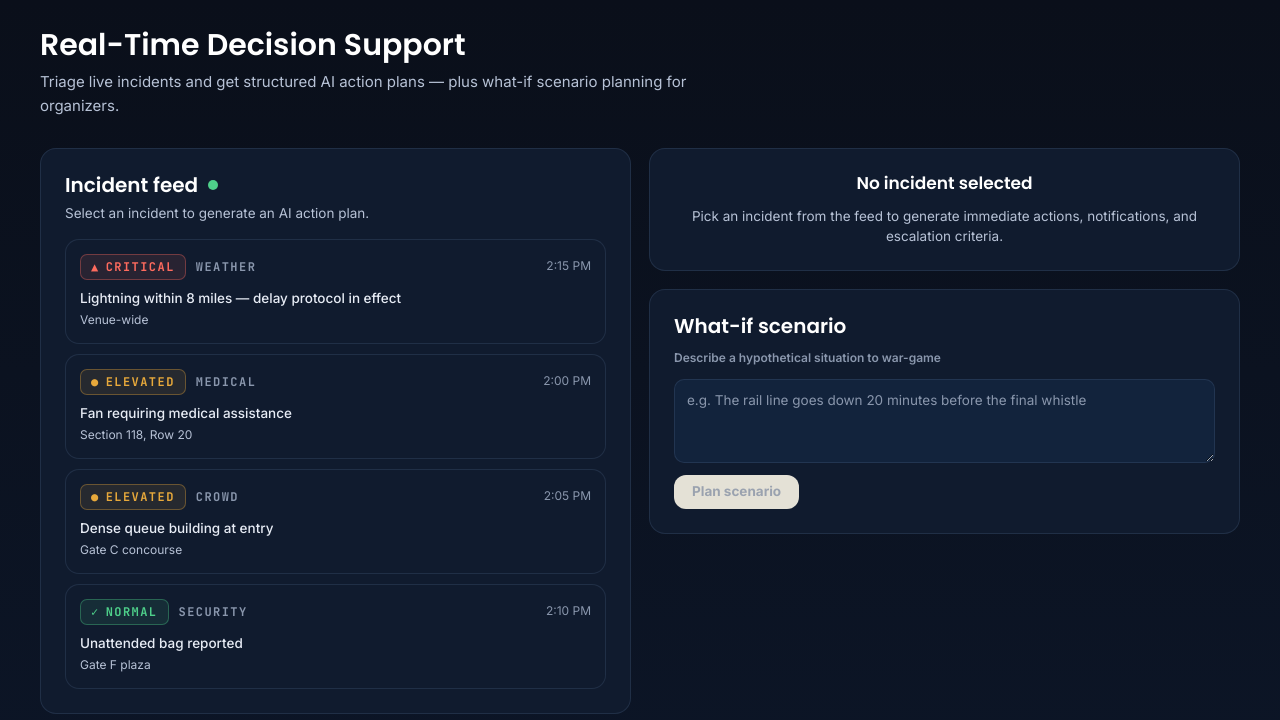
Test: RealTimeDecisionSupportScreen › marks mock plans with the Demo data badge
Click the button "Dense queue building at entry": (133, 497) x1=65 y1=469 x2=606 y2=574
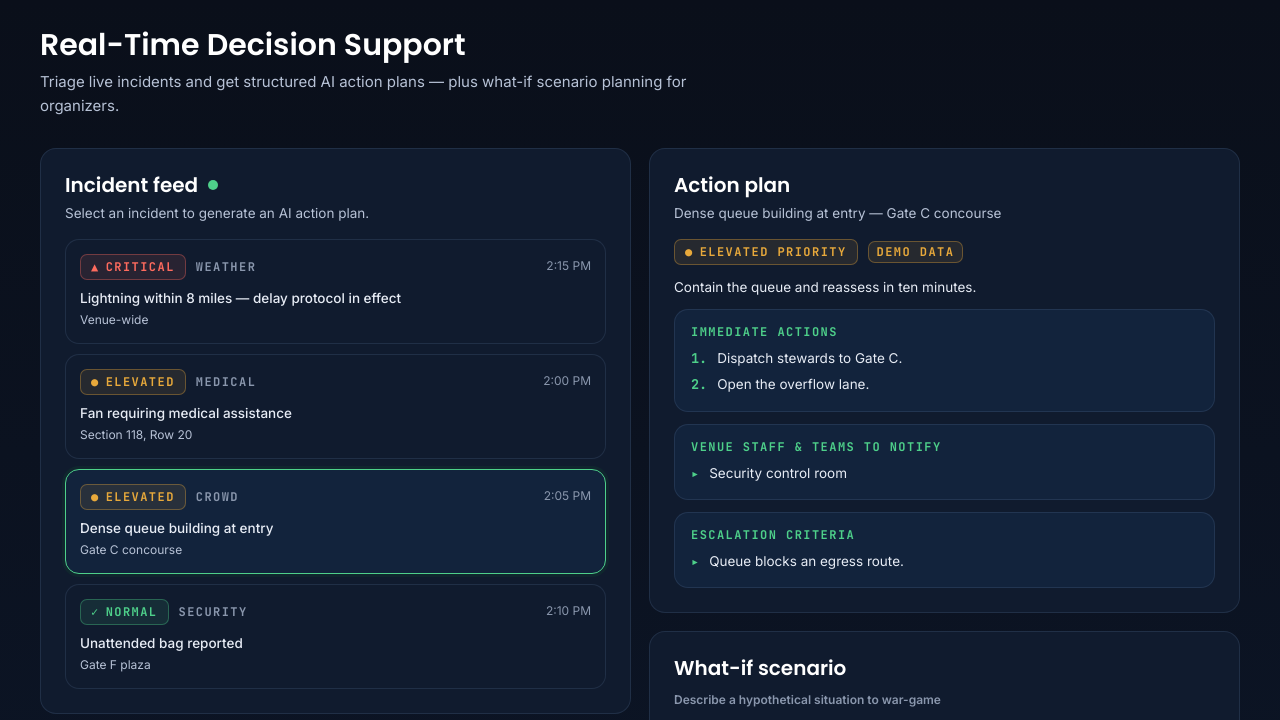
Expected: the text "Demo data" is shown, x1=868 y1=241 x2=963 y2=263
